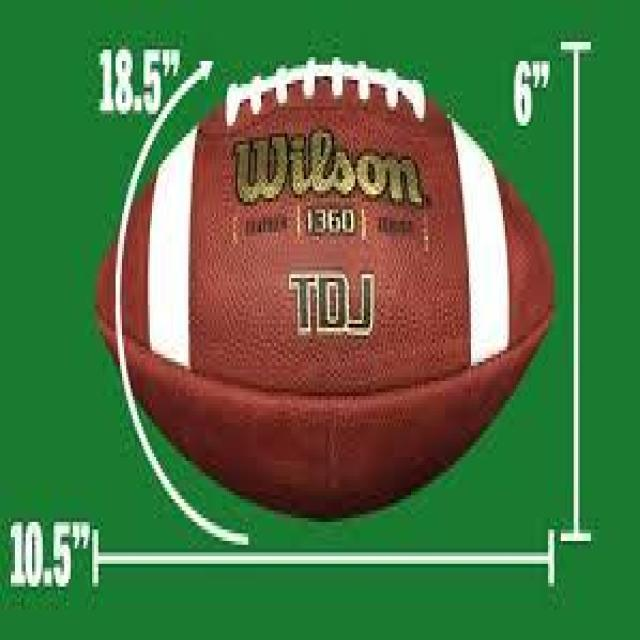ball: (173, 129, 552, 505)
